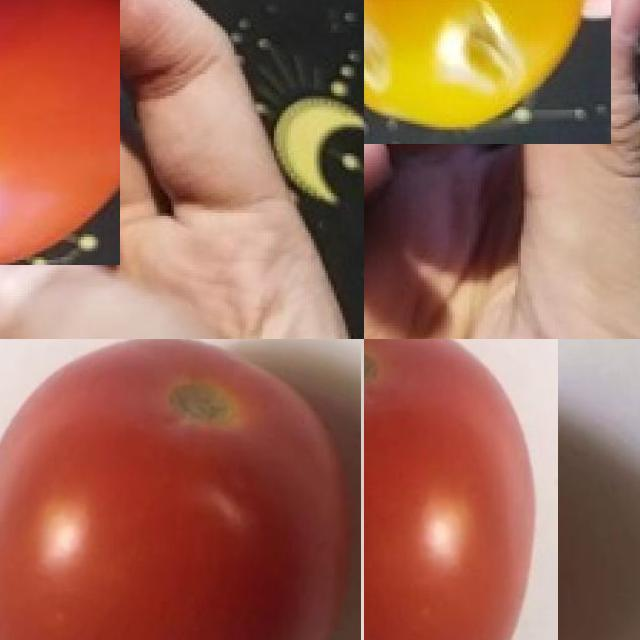Fresh Tomato: (0, 339, 360, 640), (364, 339, 557, 640), (0, 0, 120, 264)
Rotten Tomato: (364, 0, 610, 144)
